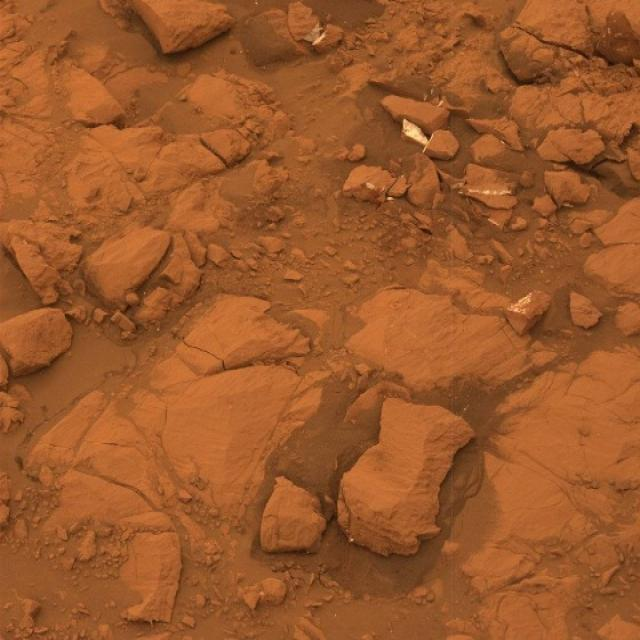rock: (338, 396, 473, 558), (95, 0, 238, 58), (82, 226, 172, 302), (0, 306, 77, 374), (260, 476, 326, 554)
